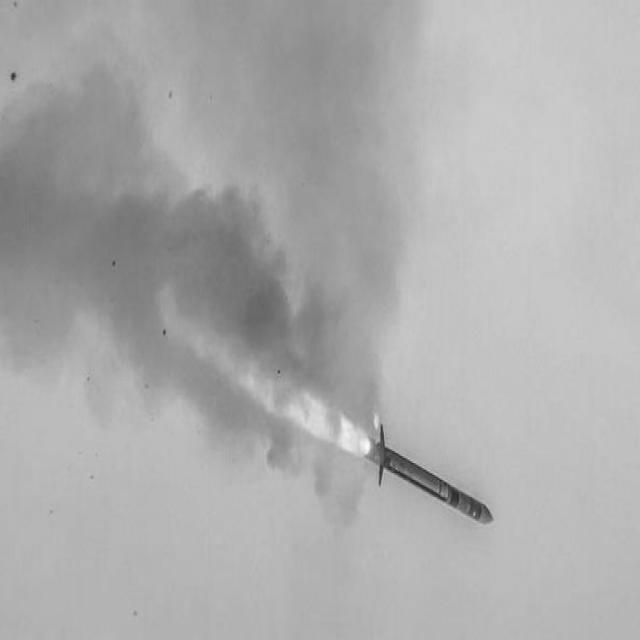Missile: (358, 417, 496, 534)
